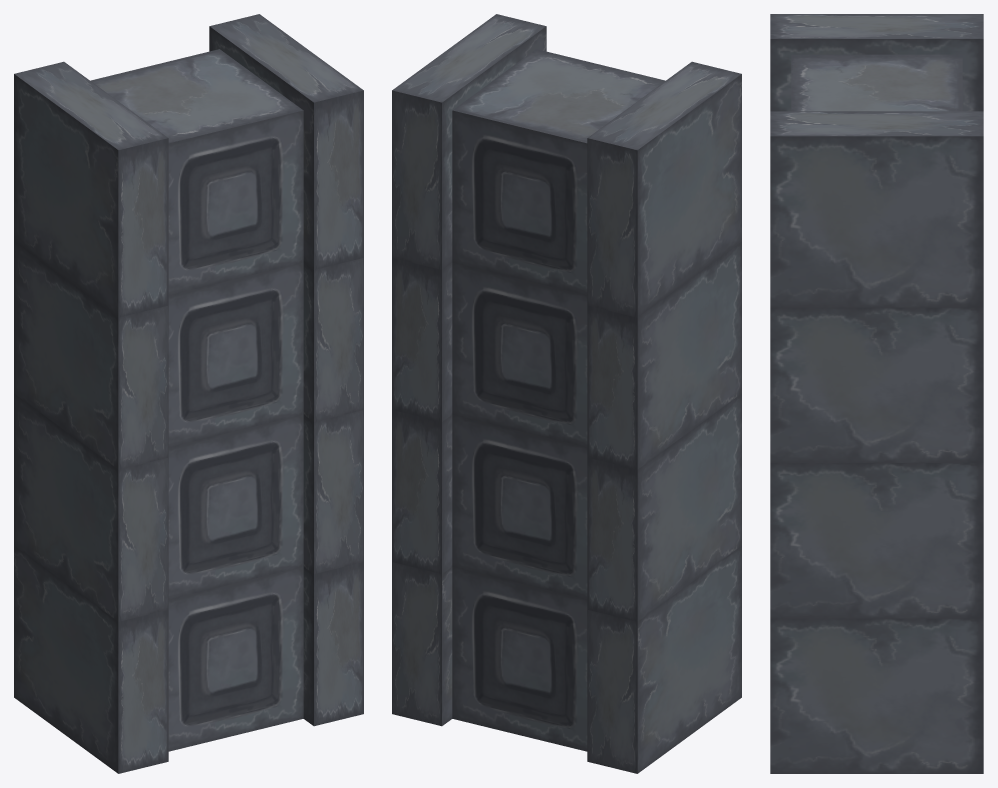
The model's file is Castle Deco Pilar 4.fbx.
The picture shows the model from 3 angles, left to right: view 1: azimuth 30°, elevation 25°; view 2: azimuth 150°, elevation 25°; view 3: azimuth 270°, elevation 25°; orthographic projection. The views are drawn at different scales.
Parts seen in each view (by area): view 1: Castle Deco Pilar 4; view 2: Castle Deco Pilar 4; view 3: Castle Deco Pilar 4.
Part boxes in pixels (x1=…): Castle Deco Pilar 4: x1=14, y1=14, x2=363, y2=773; Castle Deco Pilar 4: x1=392, y1=14, x2=741, y2=773; Castle Deco Pilar 4: x1=770, y1=14, x2=983, y2=773.
Bounding box in the file's own units: 1.27 × 3.08 × 0.9335.
